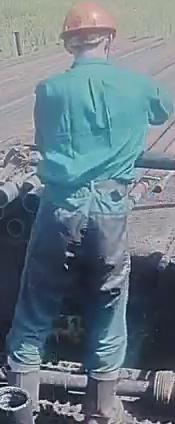helmet: (54, 1, 120, 37)
vest: (38, 68, 154, 221)
